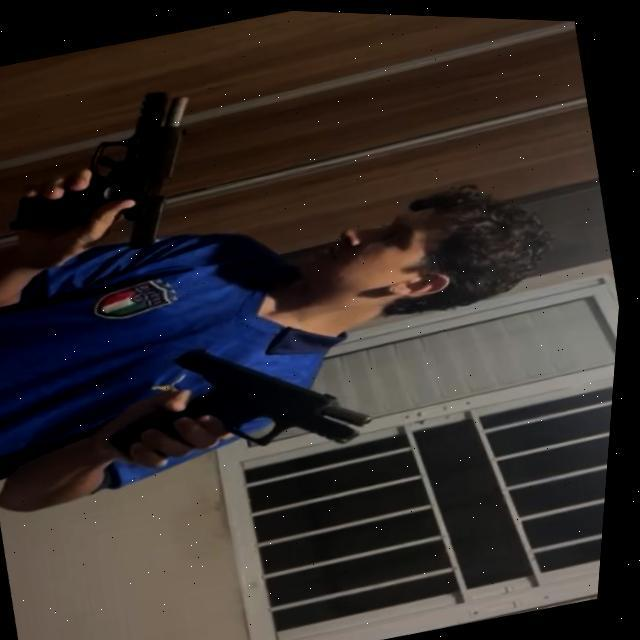gun: (98, 308, 390, 492), (0, 75, 224, 278)
